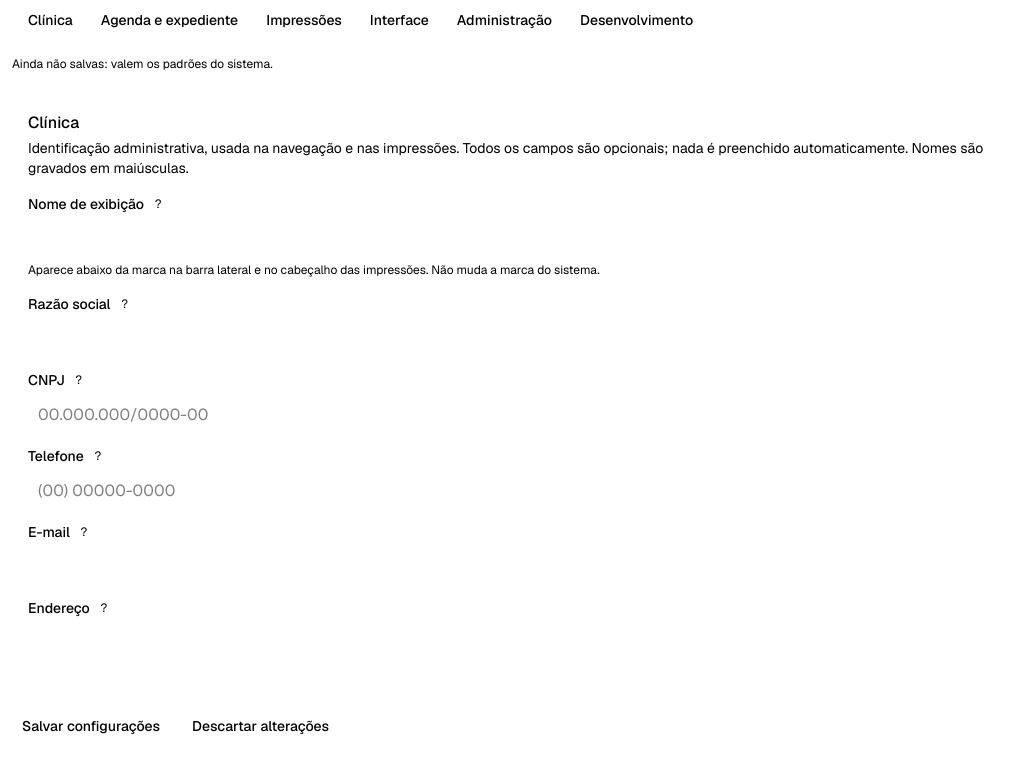
Test: Configurações em abas (#78) › mostra a aba Desenvolvimento quando o servidor envia o painel
Click the tab "Desenvolvimento". click: coordinates (637, 20)
box: [568,4,705,36]
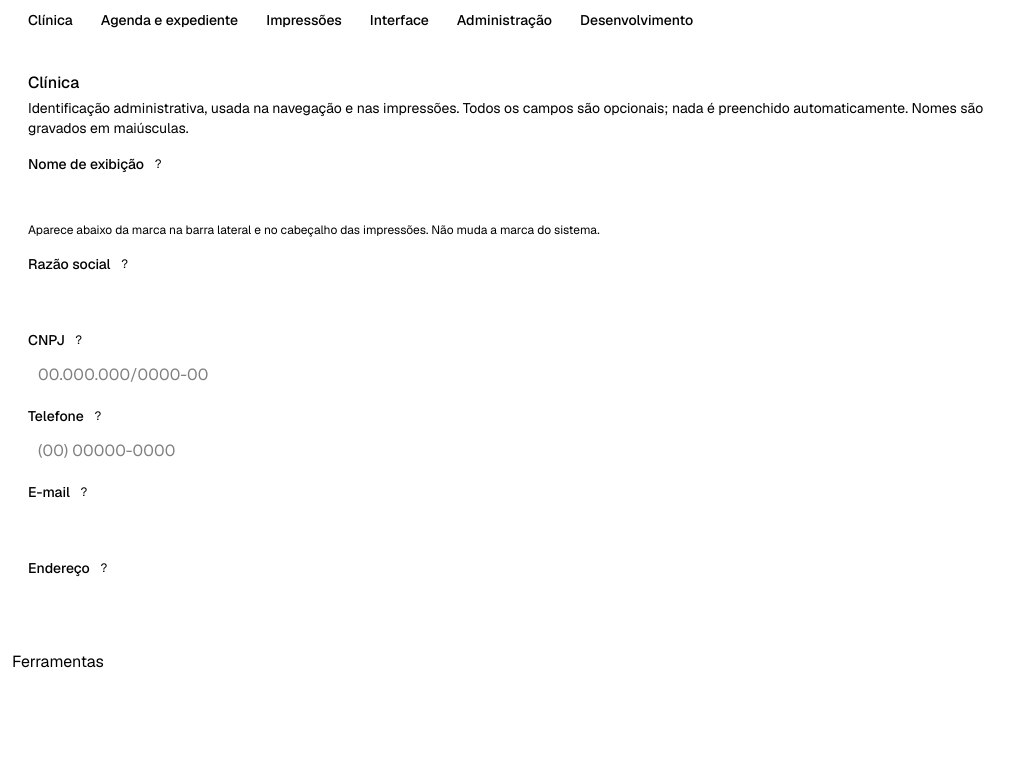
Result: the text "Ferramentas" is shown at [12,651,104,672]
